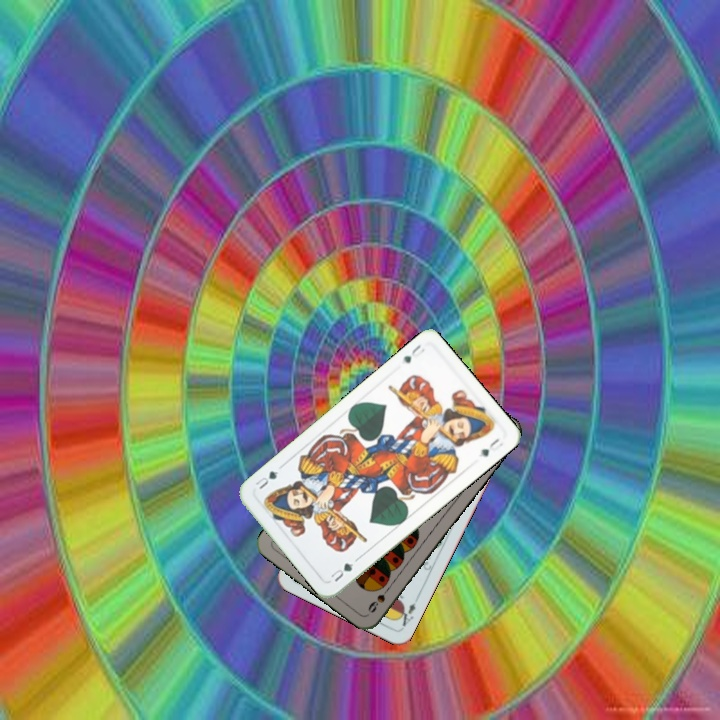EA: (393, 593, 421, 631)
GU: (326, 559, 356, 585), (398, 340, 427, 366)
S9: (364, 581, 394, 616)
